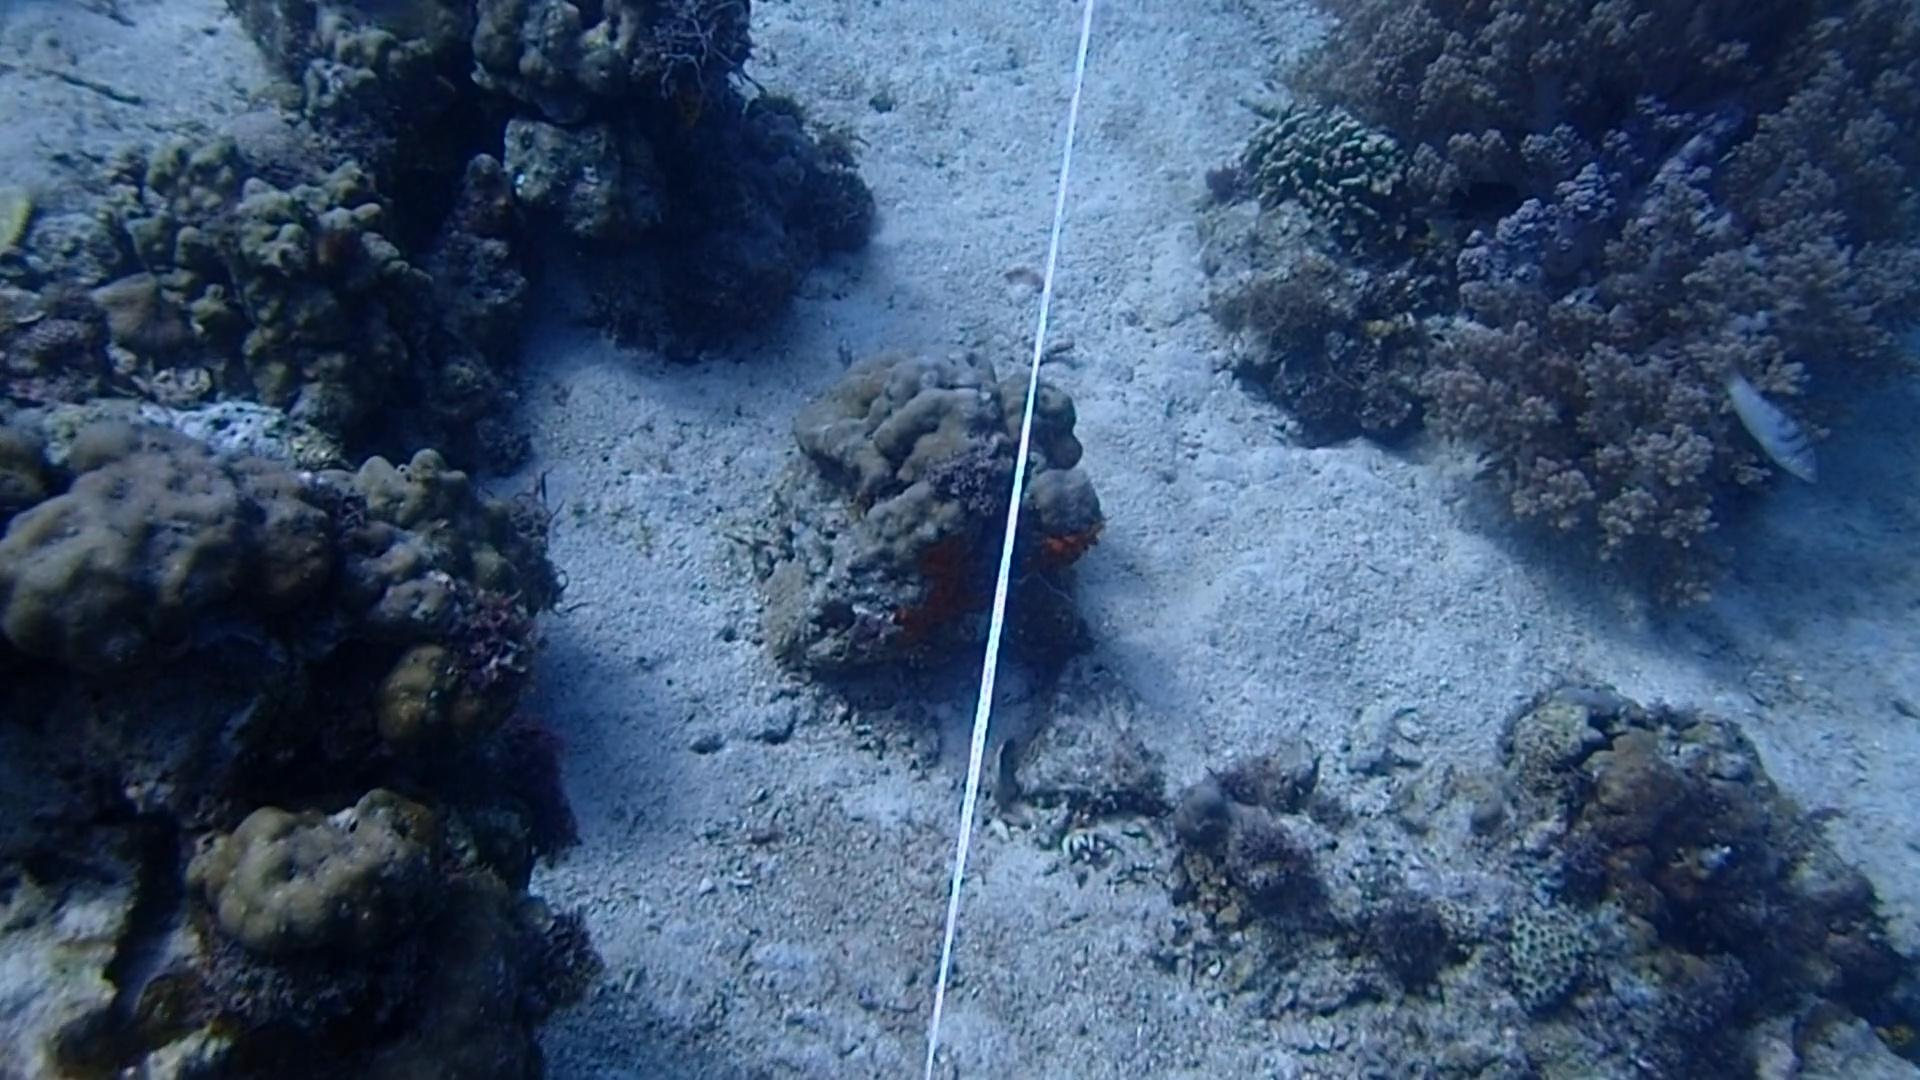Dark Fish: (1432, 167, 1535, 236)
Light Fish w Back Stripes: (1713, 363, 1829, 493)
